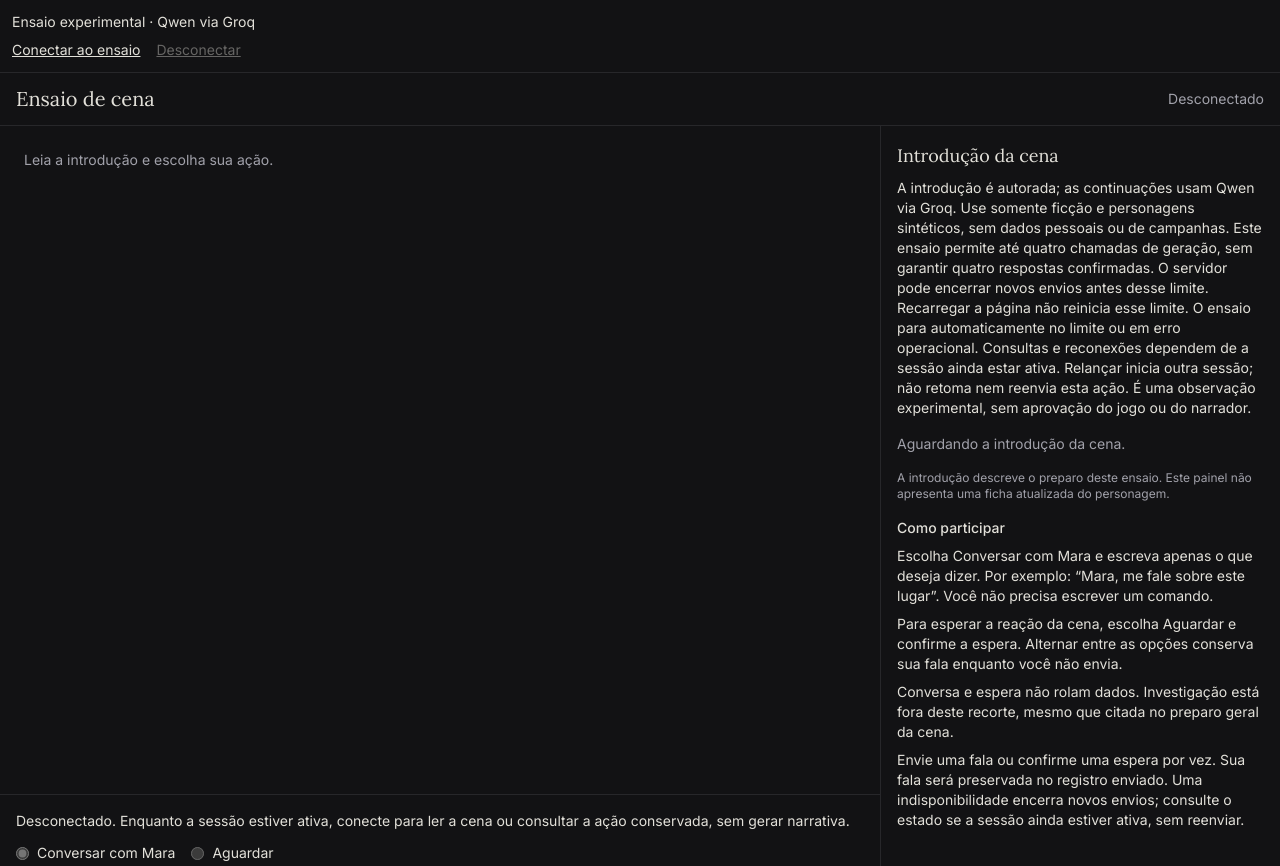
Test: composes the observed natural speech before retaining or sending its operation
The width and height of the screenshot is (1280, 866).
Click the button "Conectar ao ensaio" at (76, 50), box [12,40,140,60]
Wait 60000 ms
(page scrolled)
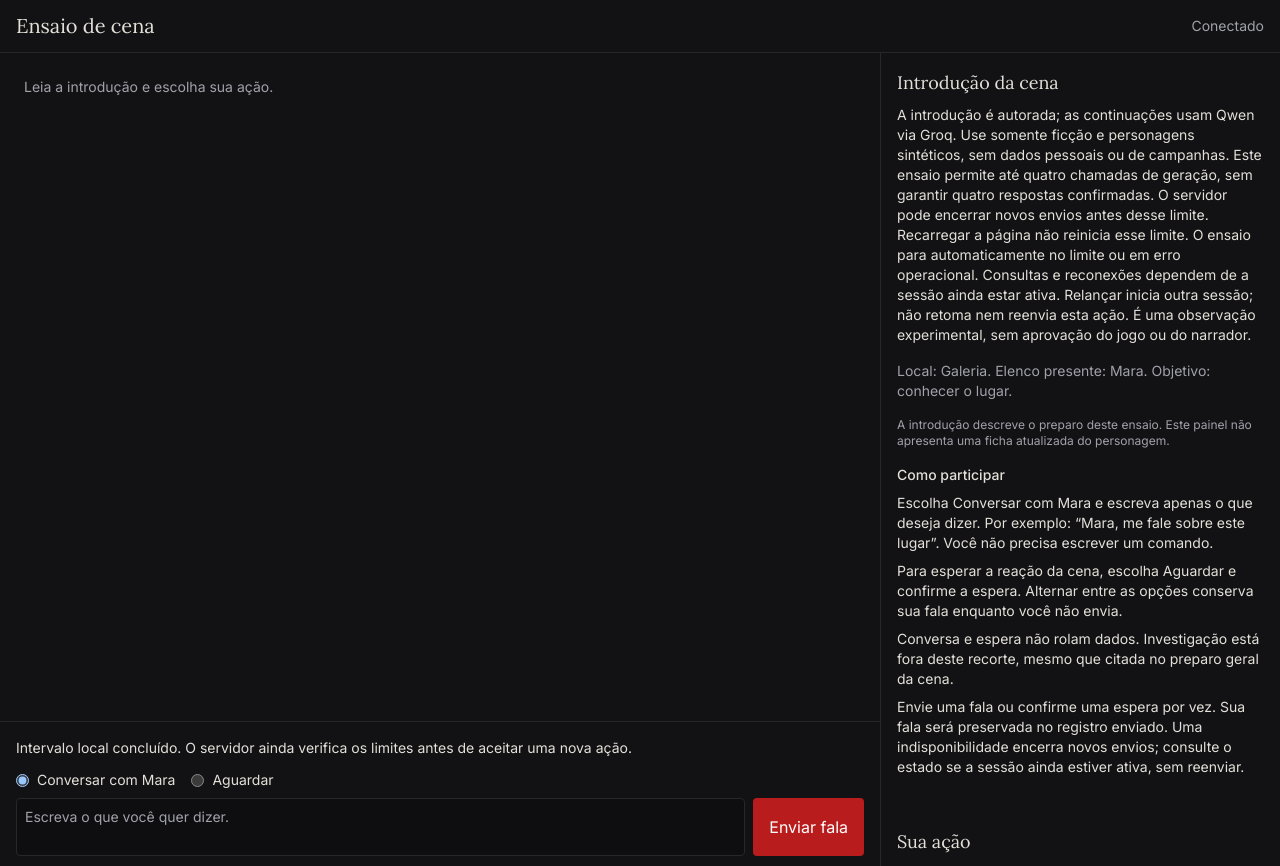
Type "Mara, me fale sobre este lugar" into the text box at (381, 827), box [16,798,745,856]
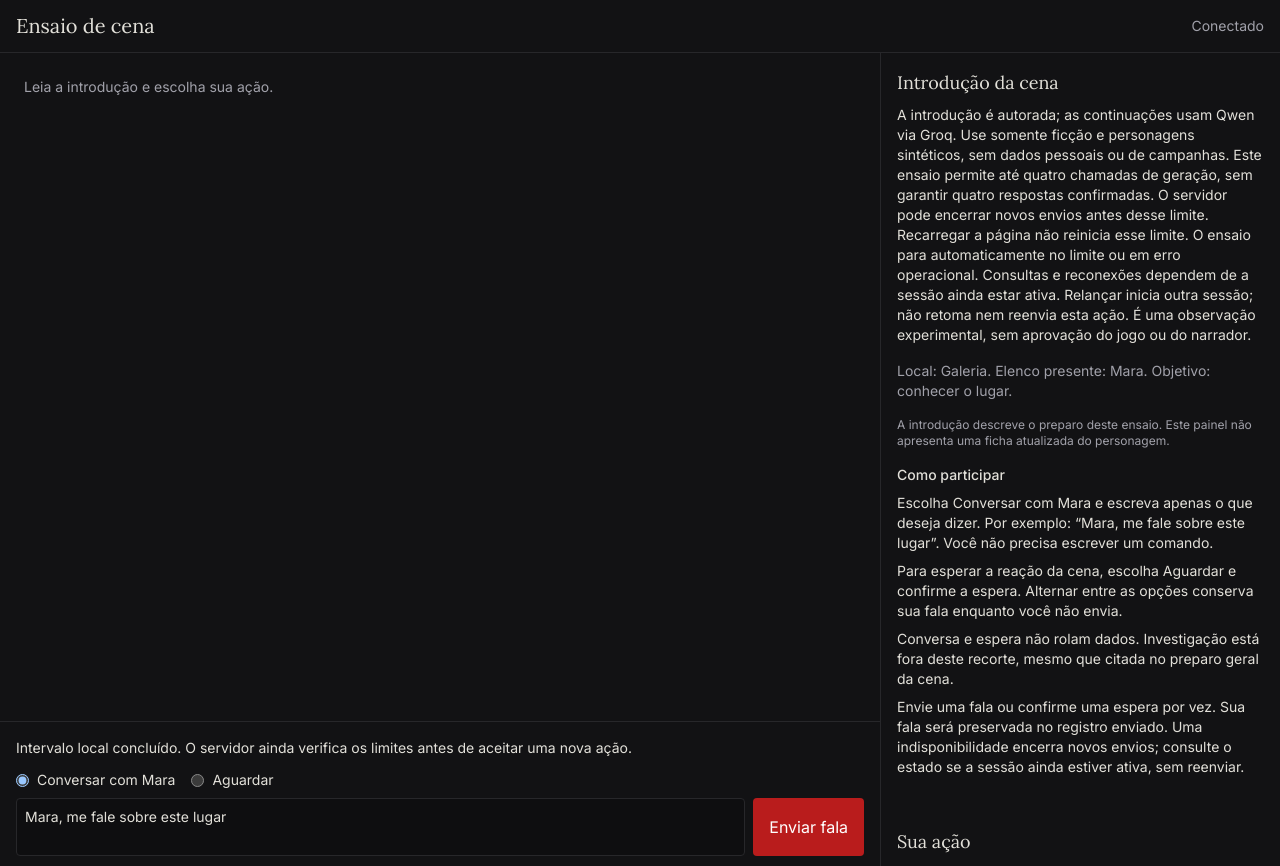
Click the button "Enviar fala" at (809, 827), box [753,798,864,856]
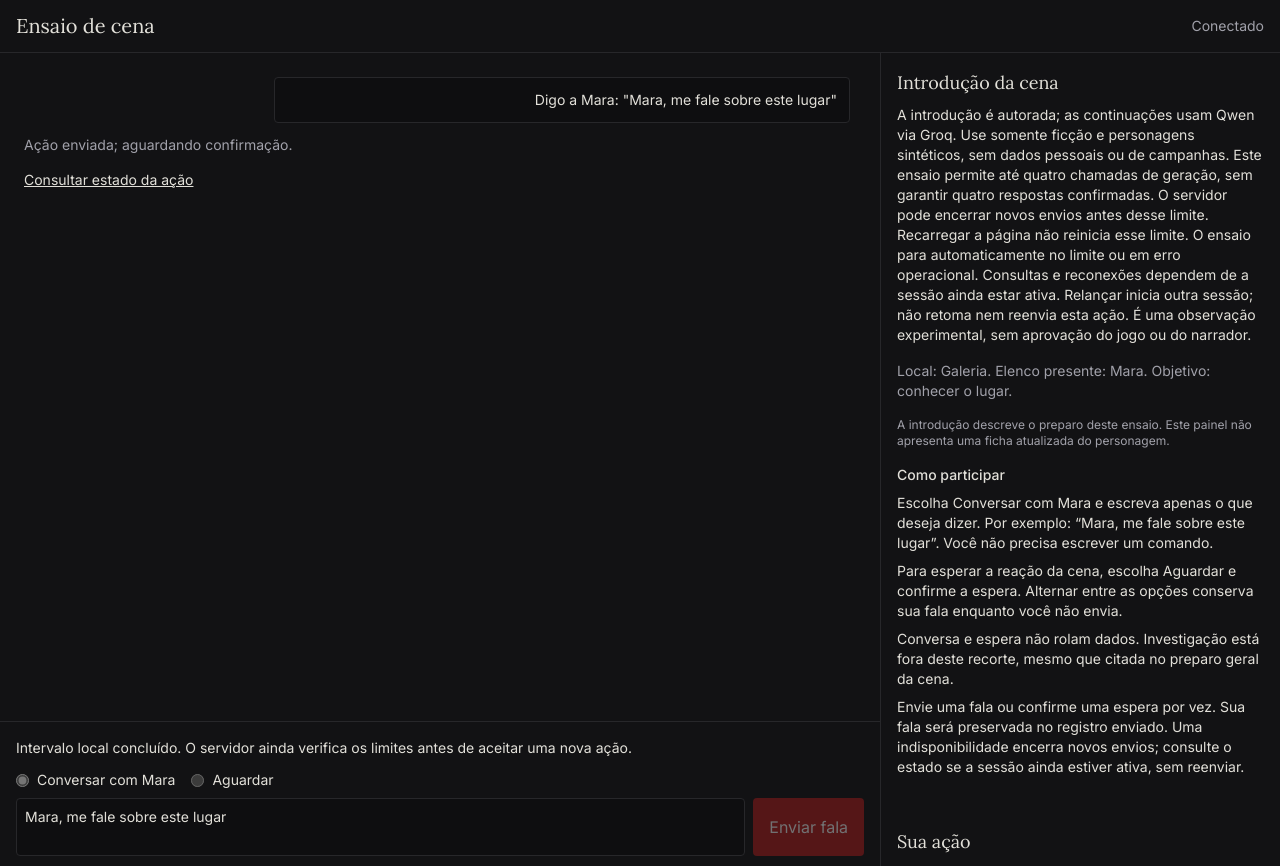
Now the element named "Histórico da cena" shows "Digo a Mara: \"Mara, me fale sobre este lugar\"", box [535,91,837,108]
